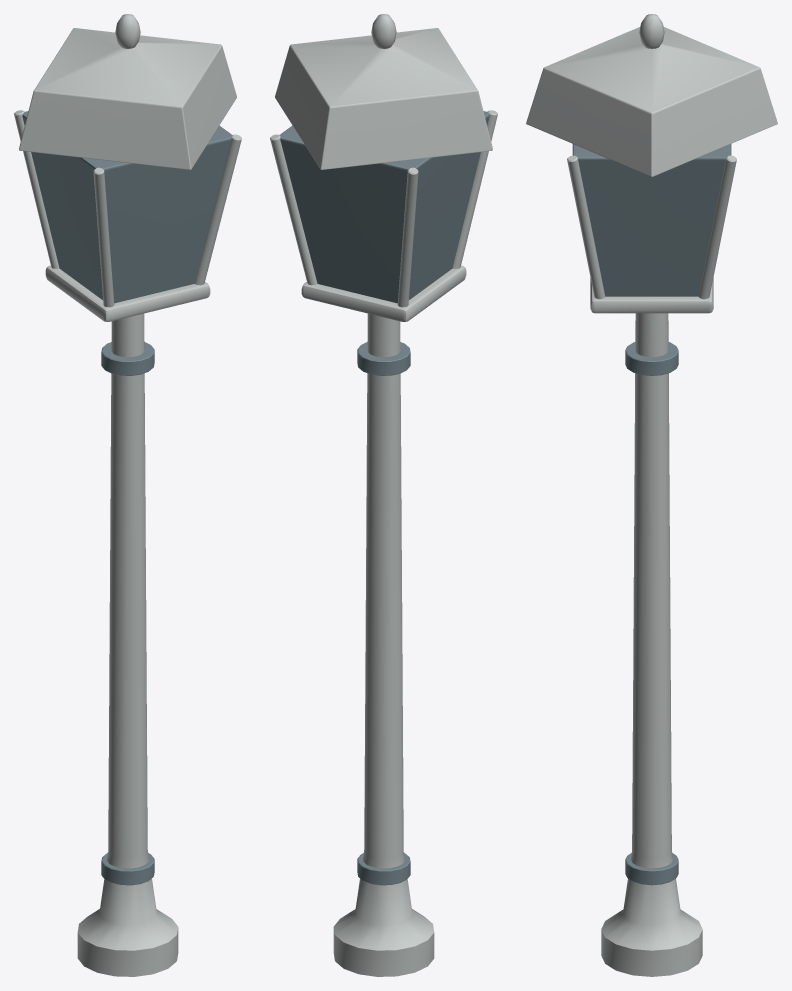
The model's file is gas-lamp.glb.
The picture shows the model from 3 angles, left to right: view 1: azimuth 30°, elevation 25°; view 2: azimuth 150°, elevation 25°; view 3: azimuth 270°, elevation 25°; orthographic projection.
Parts seen in each view (by area): view 1: lamp_post, pyramidal_roof, opaque_clay_glazing, lantern_base, lantern_corner.003, lantern_corner.001, post_collar.001, lantern_corner, post_collar, roof_finial; view 2: lamp_post, pyramidal_roof, opaque_clay_glazing, lantern_base, lantern_corner.002, lantern_corner, post_collar.001, lantern_corner.001, post_collar, roof_finial; view 3: lamp_post, pyramidal_roof, opaque_clay_glazing, lantern_base, lantern_corner.002, lantern_corner.003, post_collar.001, post_collar, roof_finial.
Part boxes in pixels (x1,y1,x2,y2): lamp_post: [77, 313, 178, 976]; pyramidal_roof: [19, 28, 236, 169]; opaque_clay_glazing: [22, 111, 232, 303]; lantern_base: [45, 265, 210, 321]; lantern_corner.003: [194, 134, 241, 285]; lantern_corner.001: [93, 167, 114, 307]; post_collar.001: [101, 342, 154, 375]; lantern_corner: [14, 110, 59, 268]; post_collar: [101, 852, 154, 885]; roof_finial: [115, 14, 140, 48]; lamp_post: [333, 313, 434, 976]; pyramidal_roof: [275, 28, 492, 169]; opaque_clay_glazing: [279, 111, 489, 303]; lantern_base: [301, 265, 466, 321]; lantern_corner.002: [270, 134, 317, 285]; lantern_corner: [397, 167, 418, 307]; post_collar.001: [357, 342, 410, 375]; lantern_corner.001: [452, 110, 497, 268]; post_collar: [357, 852, 410, 885]; roof_finial: [371, 14, 396, 48]; lamp_post: [601, 313, 702, 976]; pyramidal_roof: [526, 27, 777, 176]; opaque_clay_glazing: [572, 144, 731, 296]; lantern_base: [590, 277, 713, 313]; lantern_corner.002: [698, 155, 736, 299]; lantern_corner.003: [567, 155, 605, 299]; post_collar.001: [625, 342, 678, 375]; post_collar: [625, 853, 678, 885]; roof_finial: [639, 14, 664, 48].
Size of the model in its own units: 0.6944 by 2.86 by 0.6944.
